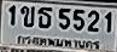letters: (37, 6, 53, 30), (20, 5, 36, 28), (86, 10, 101, 33), (72, 9, 86, 32), (58, 8, 71, 31), (103, 10, 113, 34), (7, 5, 17, 27)
province: (17, 35, 100, 50)
